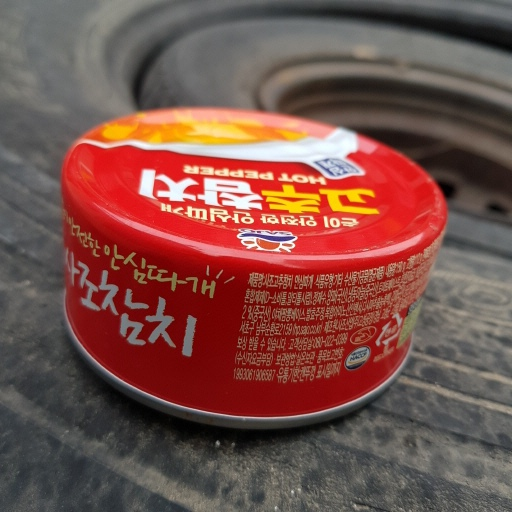Metal_1: (57, 106, 451, 426)
